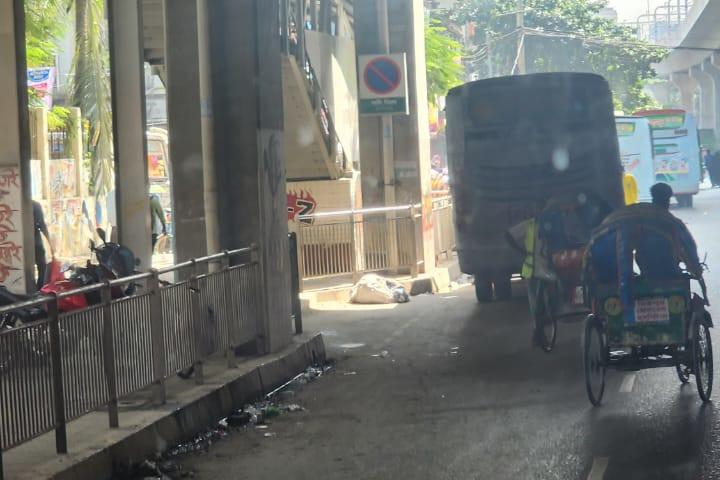No Parking: (357, 52, 408, 115)
